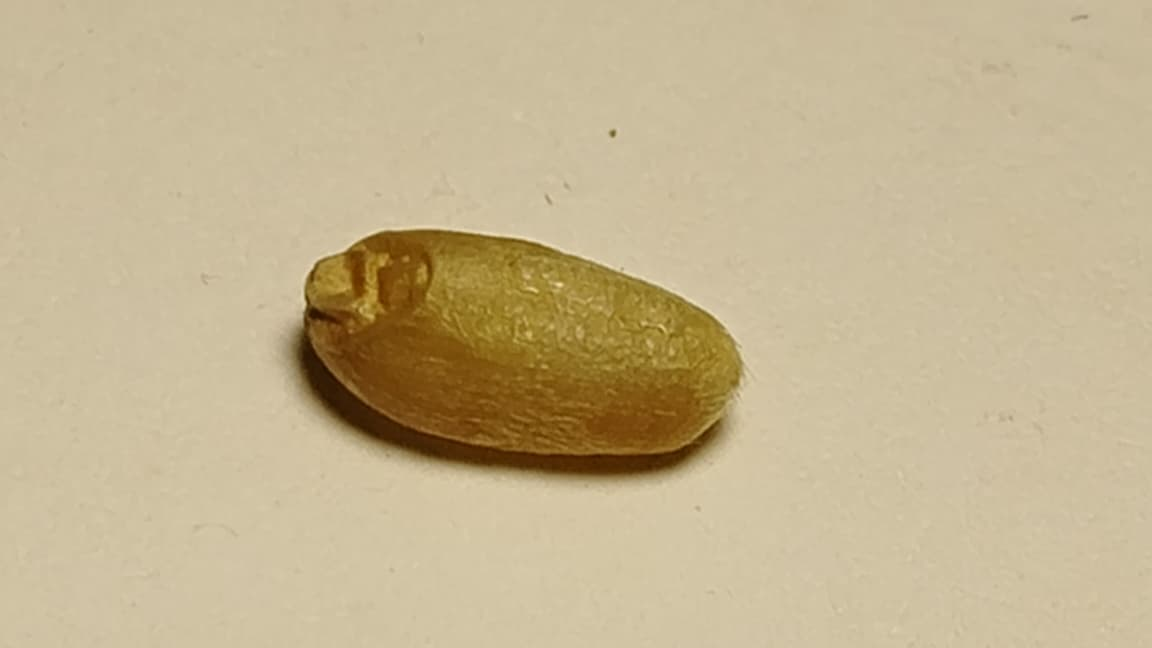healthy: (306, 230, 741, 453)
